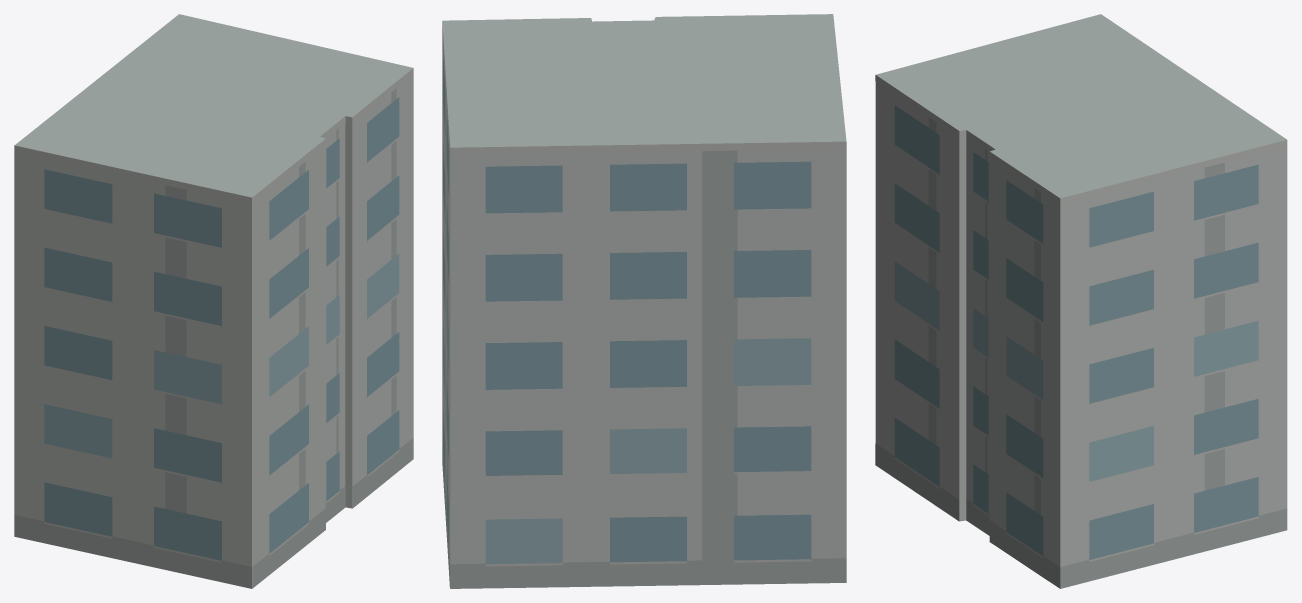
File: survey-upis-32854597.glb
3 views of the same model, side by side, from view 1: azimuth 30°, elevation 25°; view 2: azimuth 150°, elevation 25°; view 3: azimuth 270°, elevation 25° (orthographic). The views are drawn at different scales.
Parts seen in each view (by area): view 1: survey-upis-32854597.tmp; view 2: survey-upis-32854597.tmp; view 3: survey-upis-32854597.tmp.
Part boxes in pixels (box(x1,y1,x2,y2)): survey-upis-32854597.tmp: box(14, 14, 413, 588); survey-upis-32854597.tmp: box(442, 14, 846, 588); survey-upis-32854597.tmp: box(875, 14, 1287, 588).
Bounding box in the file's own units: 14.7 × 14.5 × 13.87.
